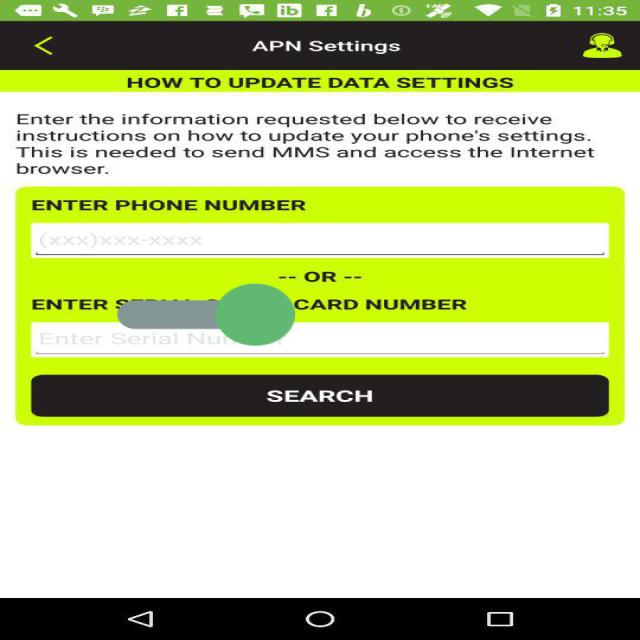social proof: (117, 245, 295, 384)
